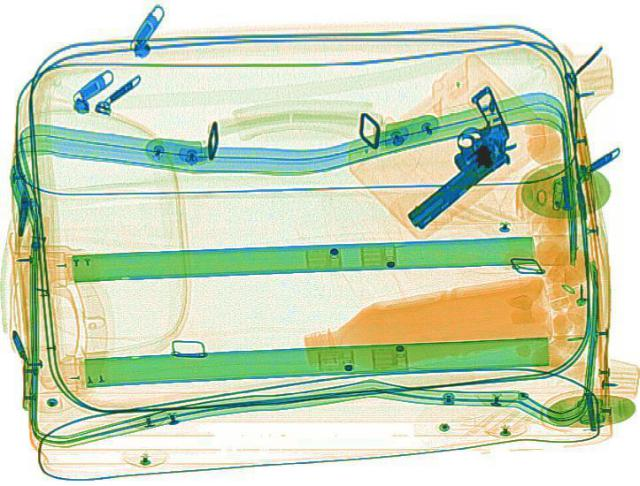Gun: (349, 81, 553, 230)
